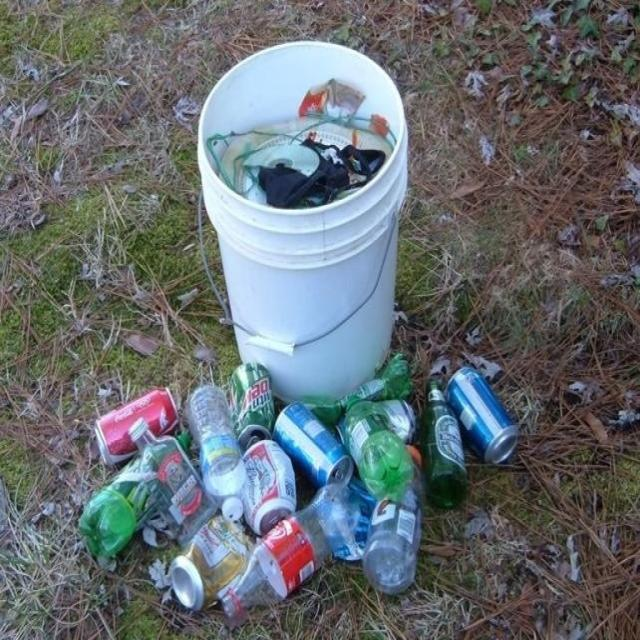Glass: (426, 373, 458, 501)
Plastics: (180, 33, 460, 356), (369, 407, 414, 582), (192, 384, 248, 511), (80, 476, 158, 558), (262, 529, 323, 600)
can: (460, 368, 534, 453), (277, 401, 348, 468), (91, 389, 176, 444), (162, 538, 230, 592)
